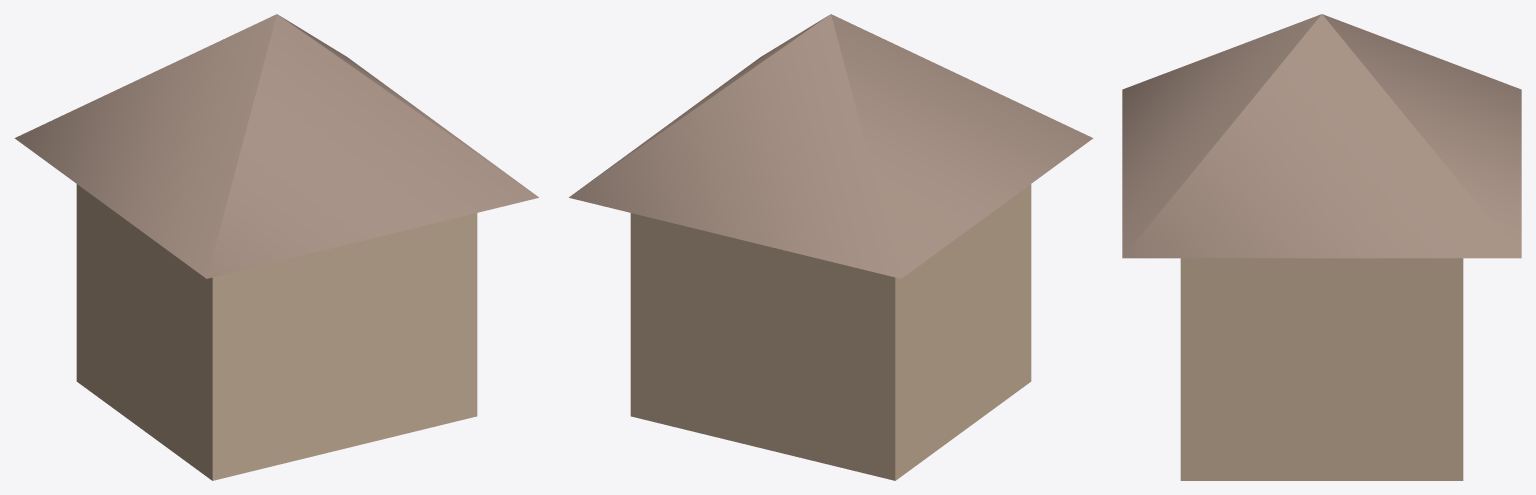
The model's file is house.glb.
3 renders of one model, left to right at view 1: azimuth 30°, elevation 25°; view 2: azimuth 150°, elevation 25°; view 3: azimuth 270°, elevation 25°, orthographic. The views are drawn at different scales.
Size of the model in its own units: 1.13 by 1.25 by 1.13.
